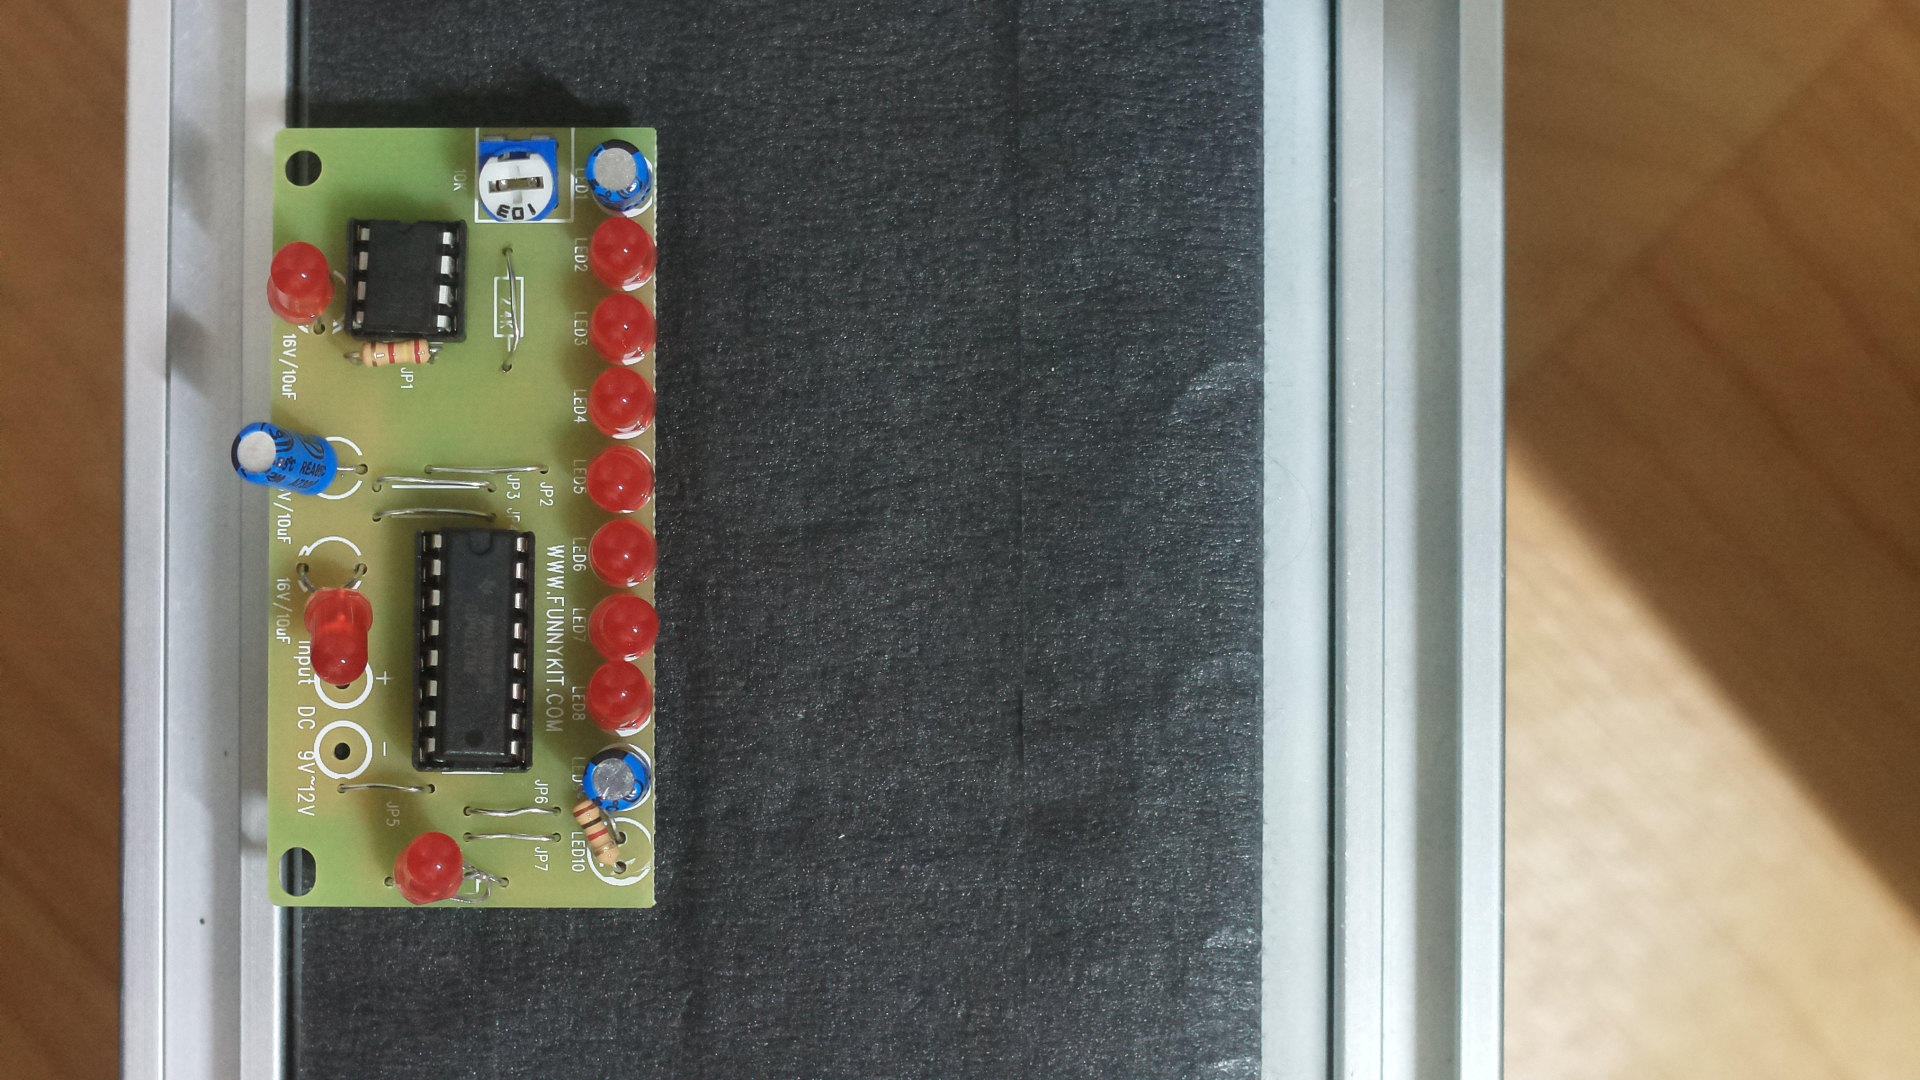B_Misordered: (229, 117, 679, 931)
